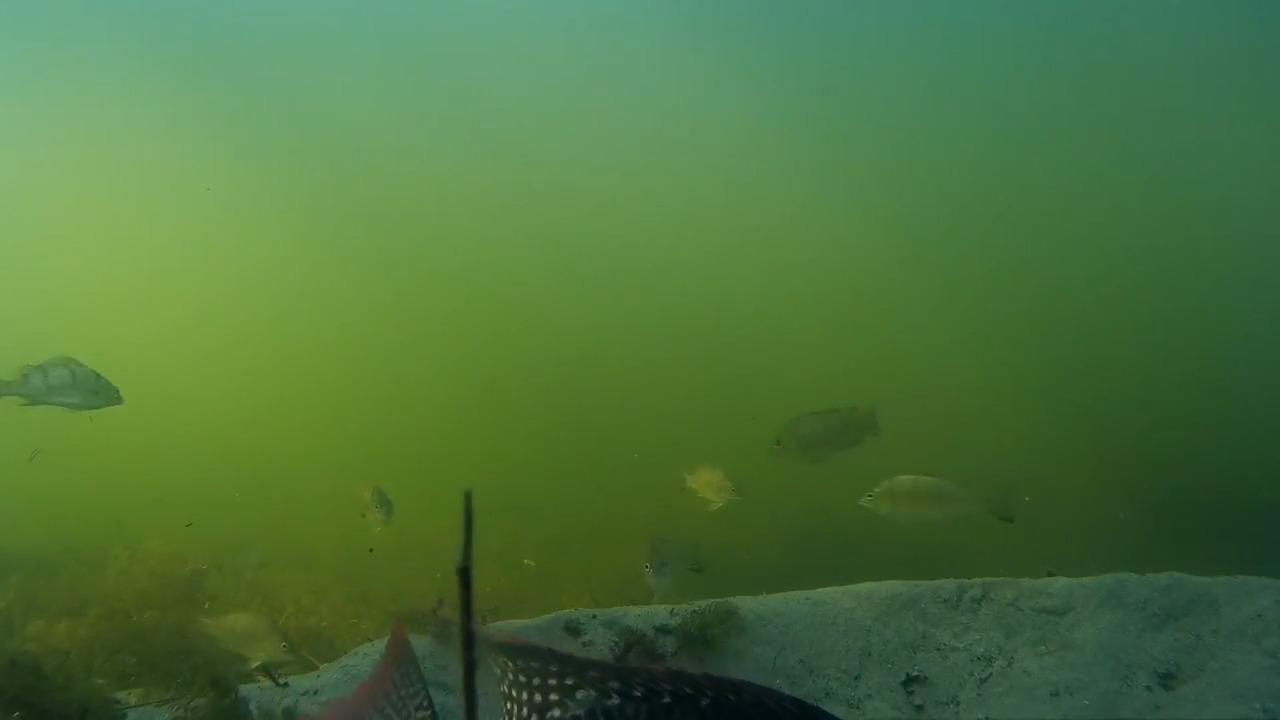Tilapia: (313, 604, 842, 720), (856, 468, 1033, 542), (618, 520, 739, 612), (759, 388, 888, 472), (0, 336, 125, 416), (665, 450, 748, 516), (354, 480, 397, 532)
